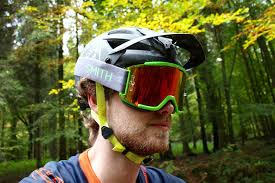helmet: (72, 29, 206, 67)
